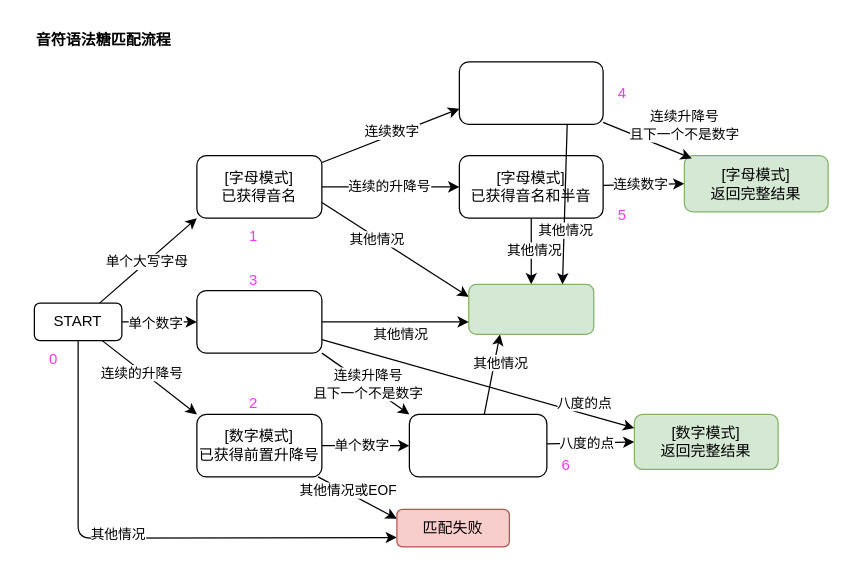
Image size: 850x570. Some labels were removed from this diagram. The shapes that lost their labels are listed below. From the top down, each one's centre as x and y in pixels, then its label:
At pixel 530 92: "[字母模式] 已获得音名和八度".
At pixel 259 321: "[数字模式] 已获得音名".
At pixel 531 308: "匹配结束 返回结果".
At pixel 477 445: "[数字模式] 已获得升降号 和音名".
